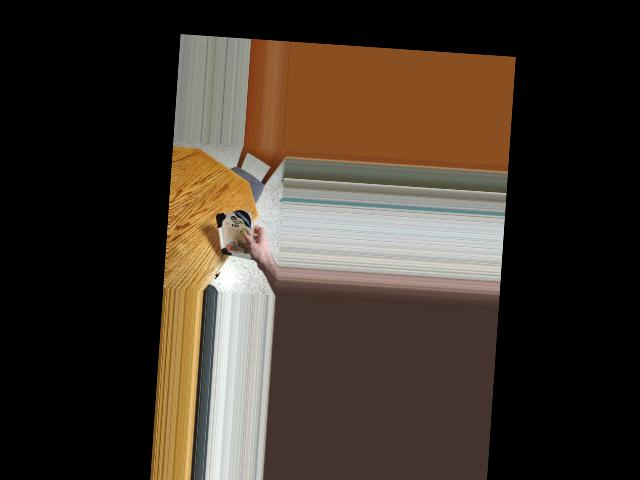cheese: (215, 206, 259, 268)
